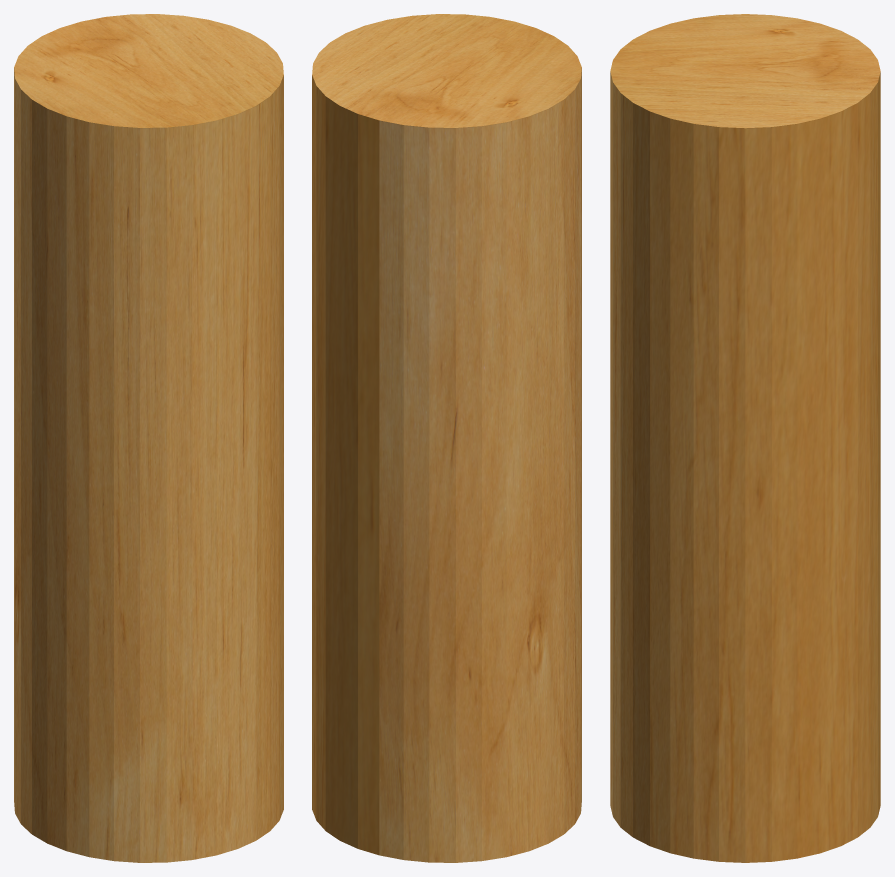
The model's file is pillar2.fbx.
The picture shows the model from 3 angles, left to right: view 1: azimuth 30°, elevation 25°; view 2: azimuth 150°, elevation 25°; view 3: azimuth 270°, elevation 25°; orthographic projection.
Parts seen in each view (by area): view 1: Pillar; view 2: Pillar; view 3: Pillar.
Part boxes in pixels (<box>): Pillar: <box>14,14,283,862</box>; Pillar: <box>312,14,581,862</box>; Pillar: <box>610,14,880,862</box>.
Size of the model in its own units: 2 by 6 by 2.
